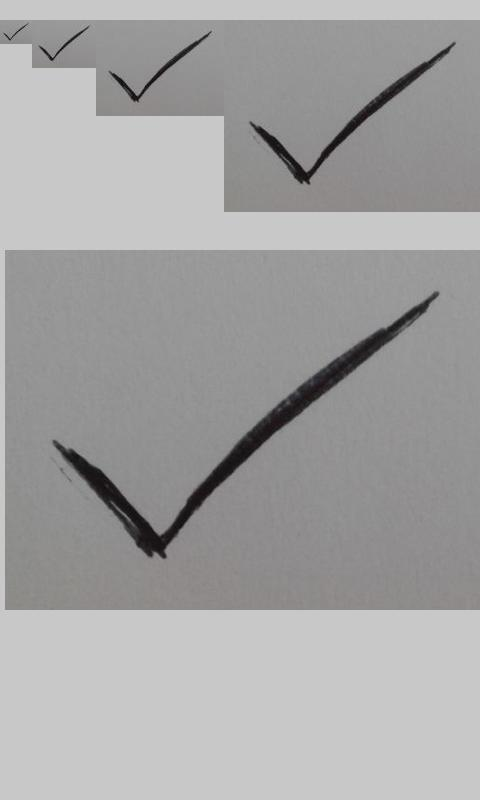check_box: (52, 294, 434, 558), (250, 43, 454, 185), (108, 31, 211, 102), (38, 25, 89, 62), (3, 23, 28, 41)
